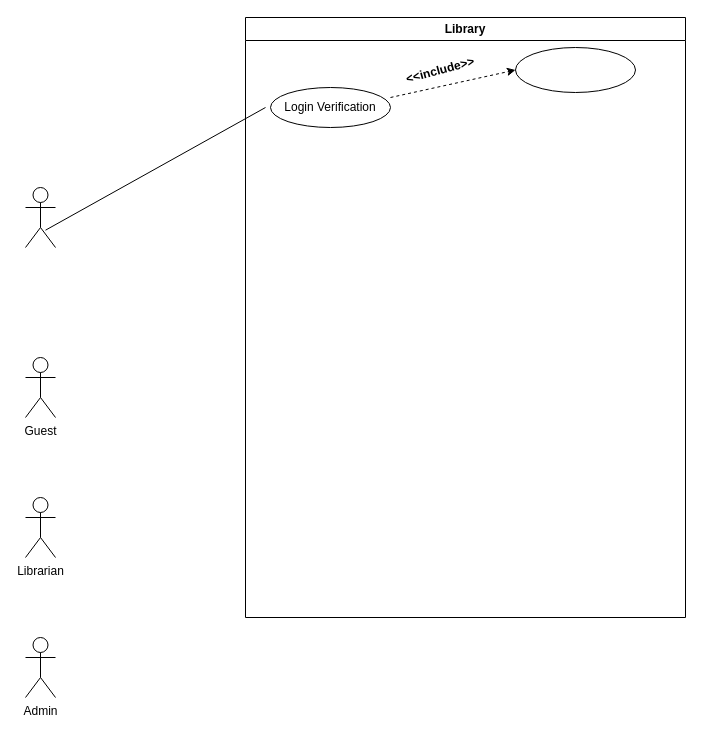
Some shapes in this 703 by 736 pixel diagram are drawn without their labels. Here are the shapes that lost their labels. From the top down, the centre of each, then its label:
[575,69]: Verify Password
[40,217]: Member
